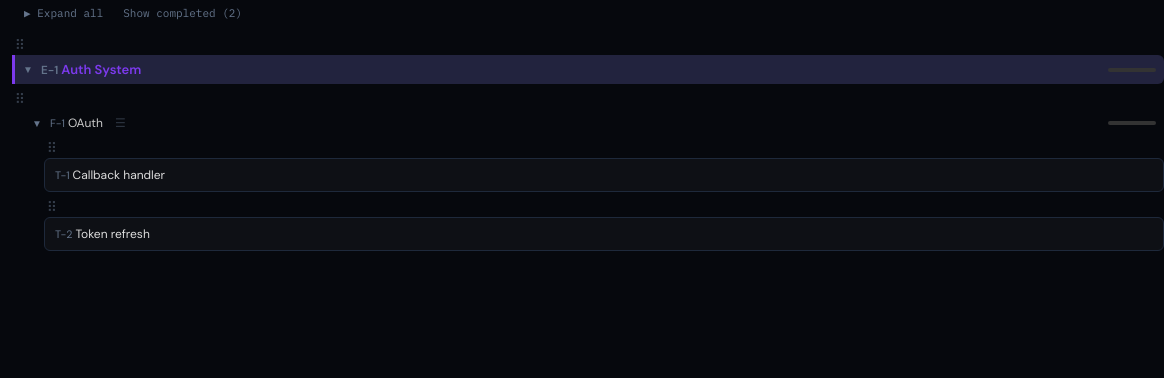
BacklogTree › shows completed epics when toggle is clicked
Click the button "Show completed (2)". click: (183, 13)
box: top-left (119, 4), bottom-right (246, 22)
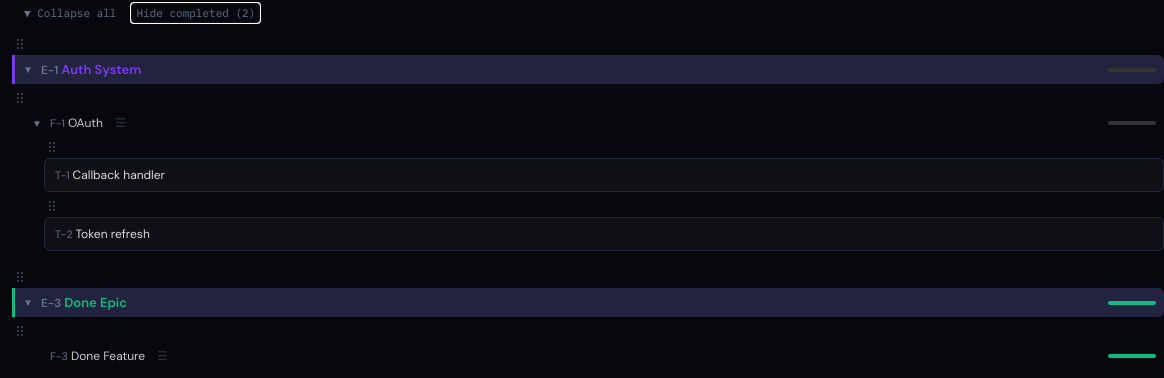
Check: the text "Done Epic" is shown, box top-left (64, 294), bottom-right (127, 311)
Check: the button "Hide completed (2)" is shown, box top-left (132, 4), bottom-right (259, 22)
